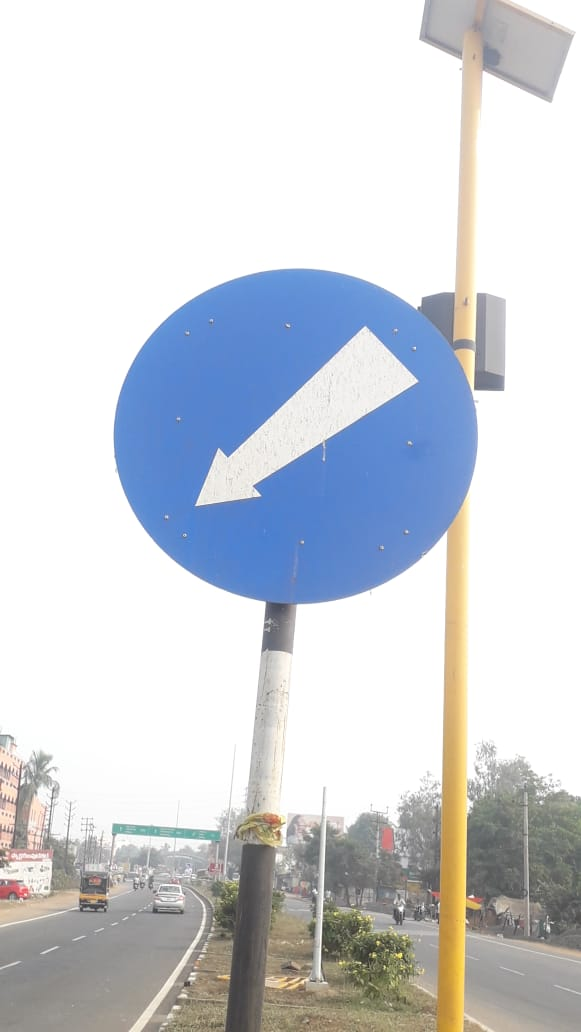go left: (111, 229, 543, 597)
